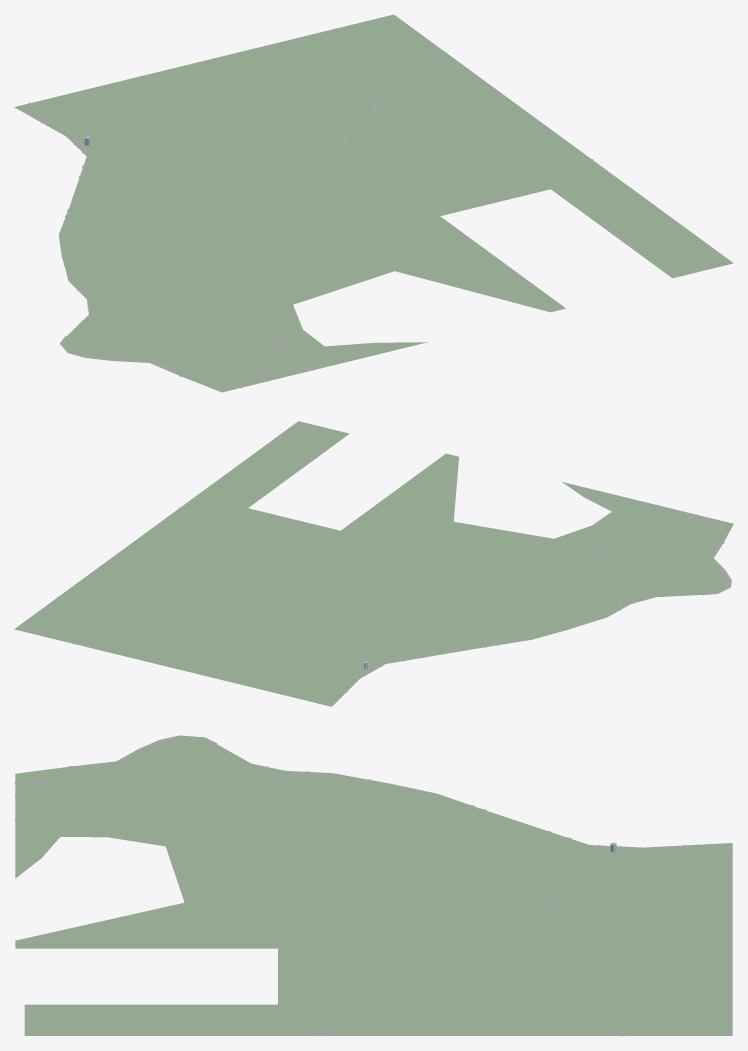
The model's file is -3_3-known-coarse.glb.
3 renders of one model, top to bottom at view 1: azimuth 30°, elevation 25°; view 2: azimuth 150°, elevation 25°; view 3: azimuth 270°, elevation 25°, orthographic. The views are drawn at different scales.
Bounding box in the file's own units: 744 × 9 × 752.
